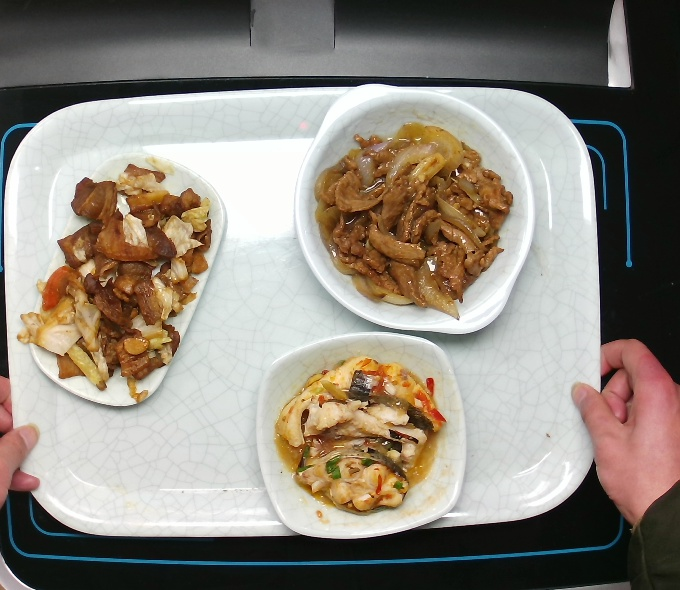wcq-DuoJiaoYuKuai: (272, 349, 441, 506)
wcq-PaoCaiRouPian: (29, 163, 208, 394)
wcq-YangCongRouPian: (308, 116, 519, 308)
